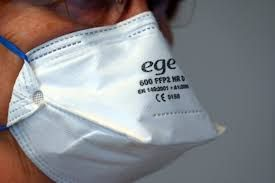with-mask: (1, 1, 219, 183)
